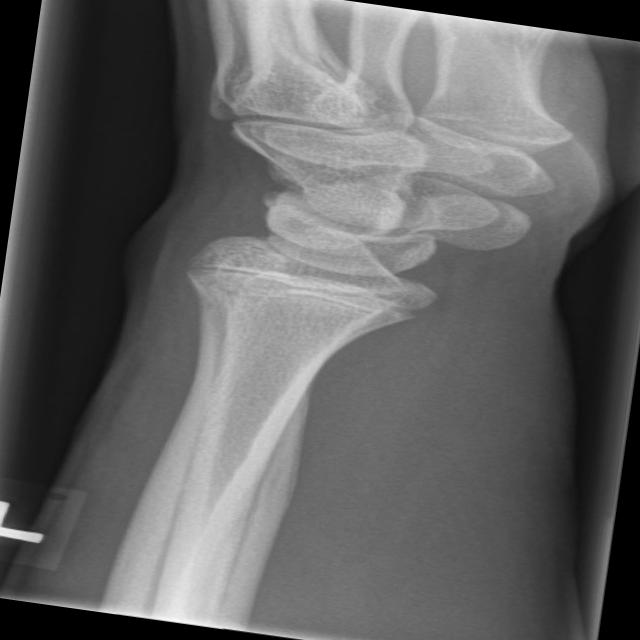fracture: (178, 246, 462, 342)
